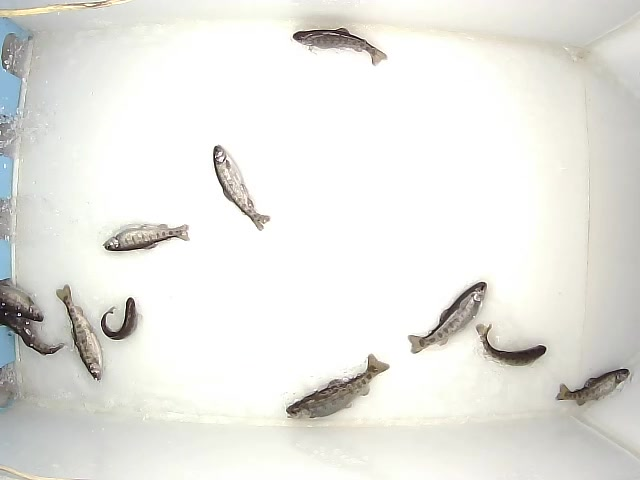fish: (284, 349, 391, 421), (406, 280, 488, 356), (210, 142, 272, 233), (54, 282, 104, 392), (290, 24, 390, 66), (475, 320, 548, 366), (555, 366, 633, 408), (102, 218, 191, 253), (99, 294, 139, 342)
